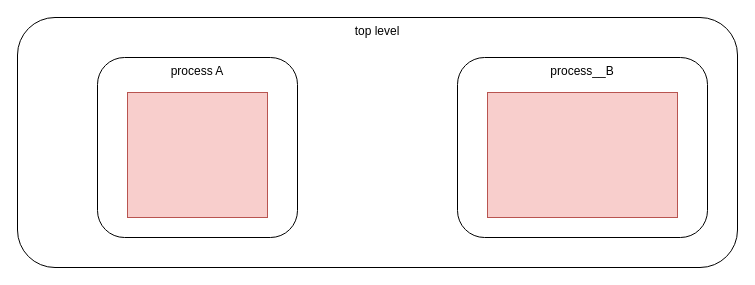
Image size: 755x285. Some labels were removed from this diagram. The shapes that lost their labels are listed below. From the top down, each one's centre as x and y in pixels, then its label:
point (197, 155): echo hello echo ... from process A
point (582, 155): echo ... from process B echo goodbye
